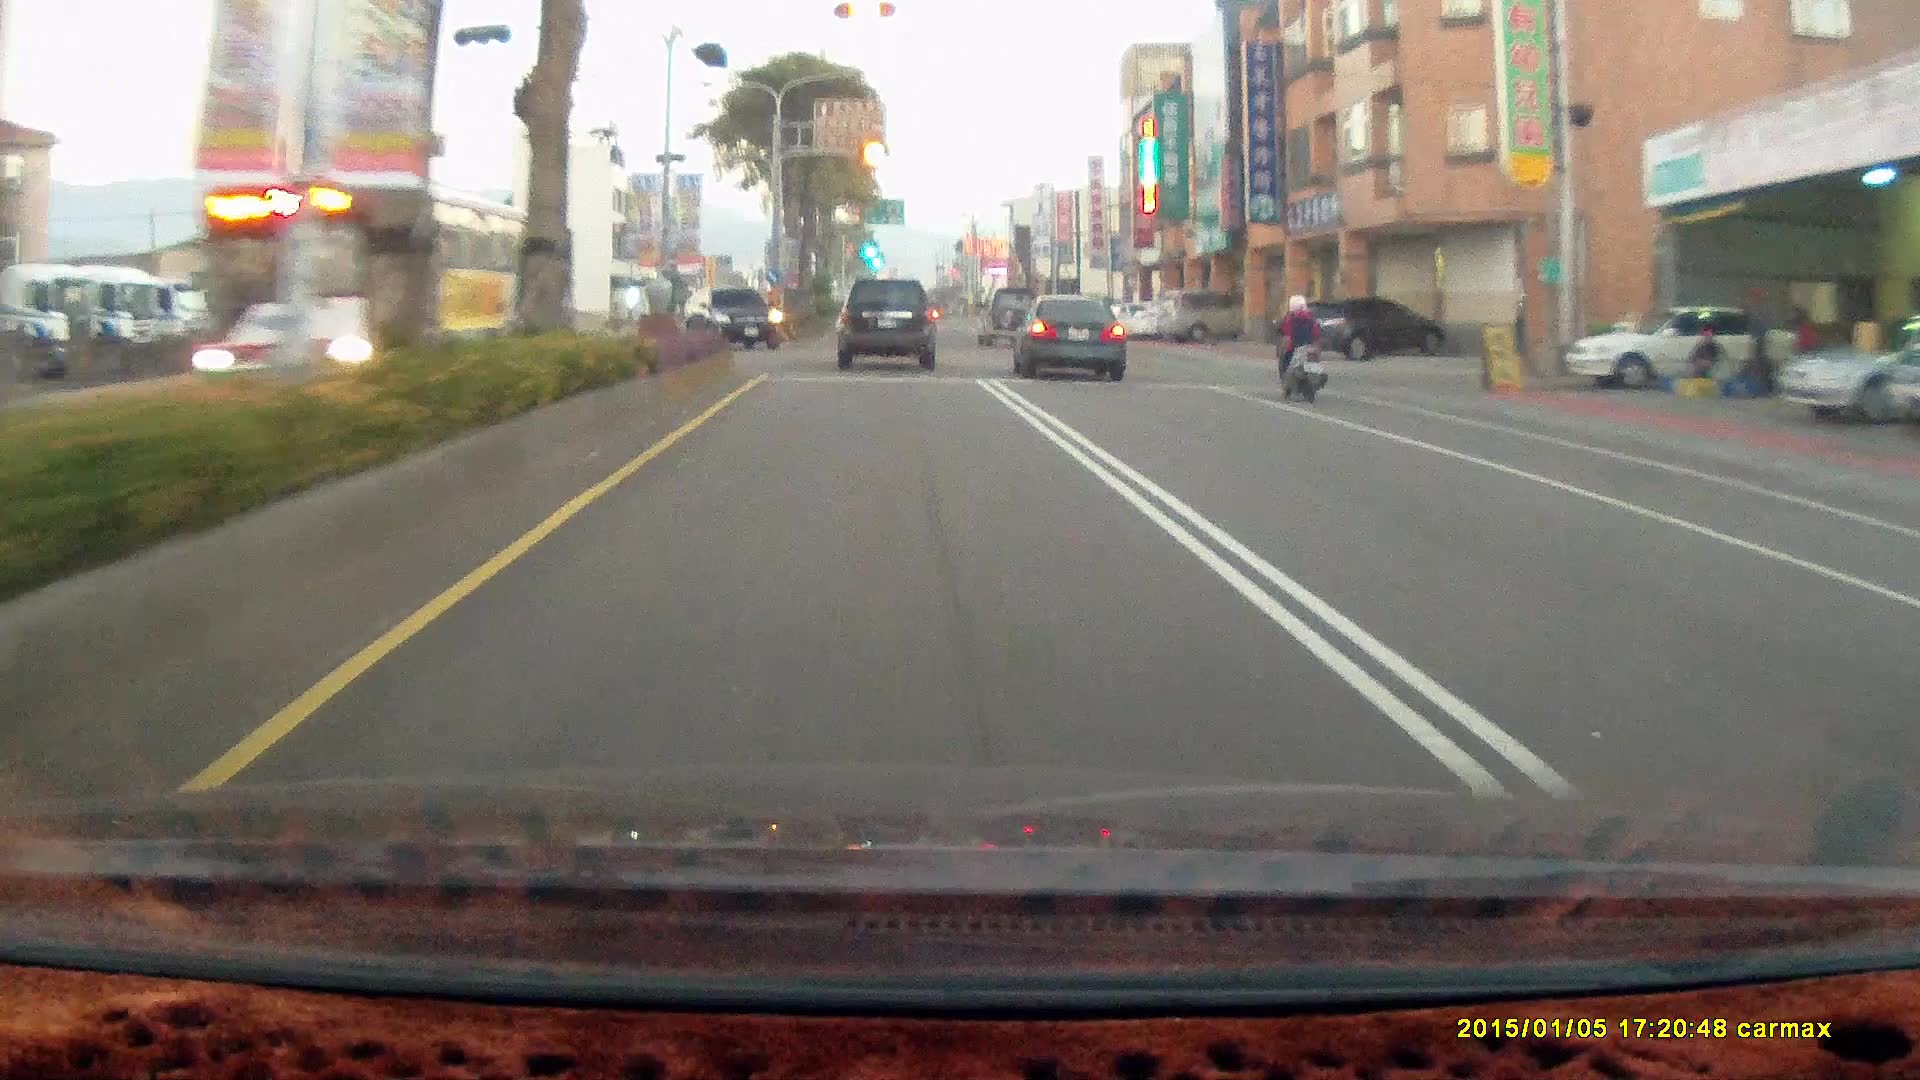pedestrian: (1748, 291, 1777, 399), (1791, 305, 1822, 399), (1692, 328, 1723, 396)
rider: (1259, 284, 1339, 413), (1269, 294, 1327, 402)
vehicle: (170, 173, 580, 399), (194, 178, 573, 401), (1561, 304, 1816, 385), (1560, 304, 1797, 389), (1779, 312, 1920, 415), (1779, 312, 1920, 414), (1012, 296, 1132, 390), (1005, 294, 1125, 381), (1287, 296, 1445, 360), (1287, 299, 1444, 364), (837, 281, 942, 375), (835, 277, 934, 371), (690, 285, 782, 357), (689, 285, 781, 349), (1155, 291, 1264, 344), (1156, 291, 1249, 347), (974, 286, 1040, 347), (1877, 340, 1920, 429)
